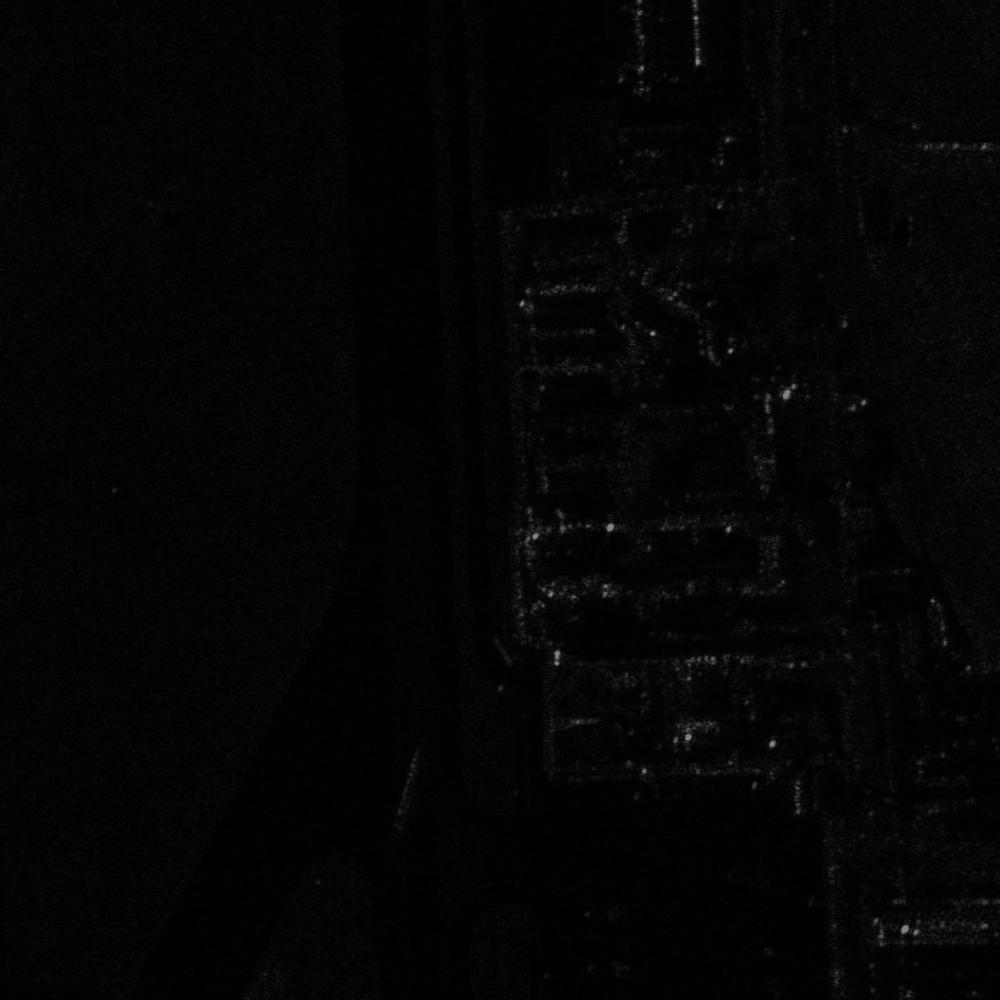ARJ21: (583, 949, 640, 986)
other: (582, 892, 636, 930)
